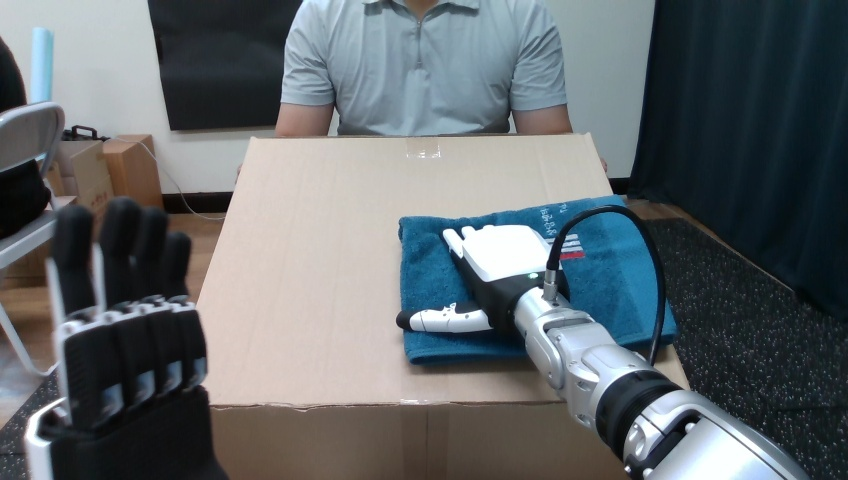left robot hand: (396, 204, 806, 479), (559, 212, 658, 360)
